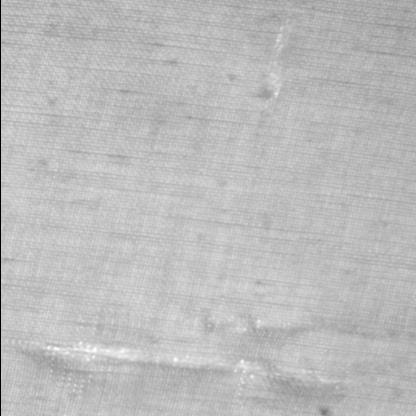thread error: (0, 336, 346, 402), (245, 0, 304, 118)
